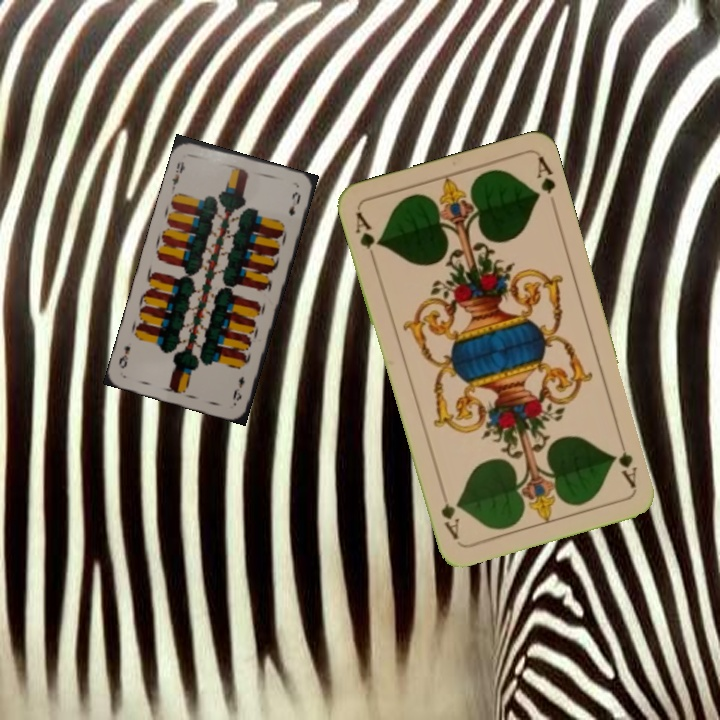E9: (168, 157, 187, 191), (228, 372, 247, 404)
GA: (351, 208, 383, 265), (609, 433, 640, 491)
